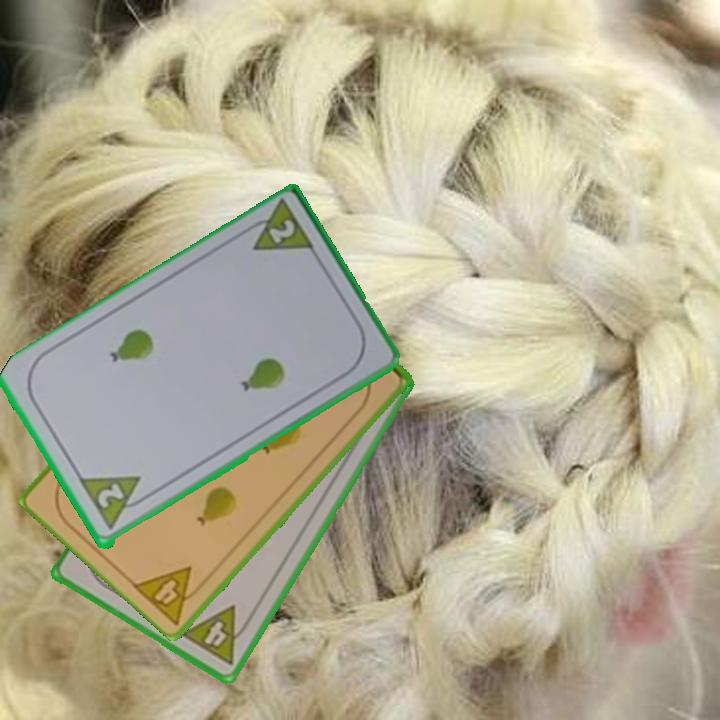2p: (76, 472, 154, 533), (239, 198, 318, 257)
4p: (129, 562, 212, 628), (177, 602, 256, 669)
